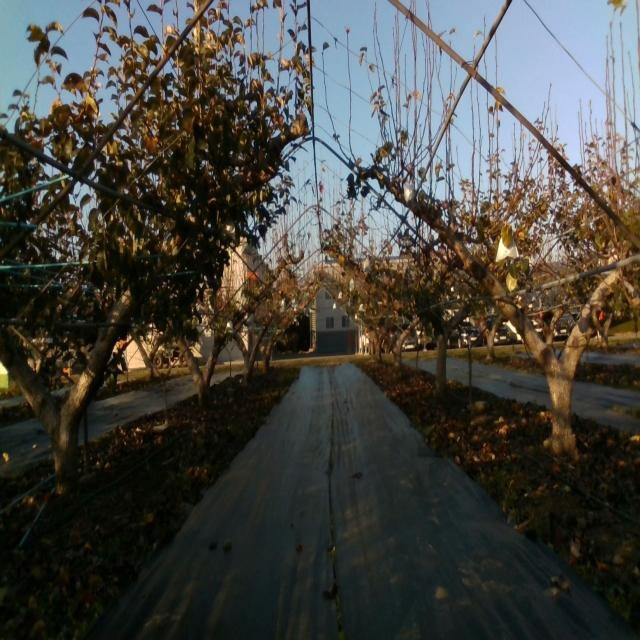pearbags: (496, 236, 520, 262), (220, 214, 237, 240), (404, 184, 415, 208)
